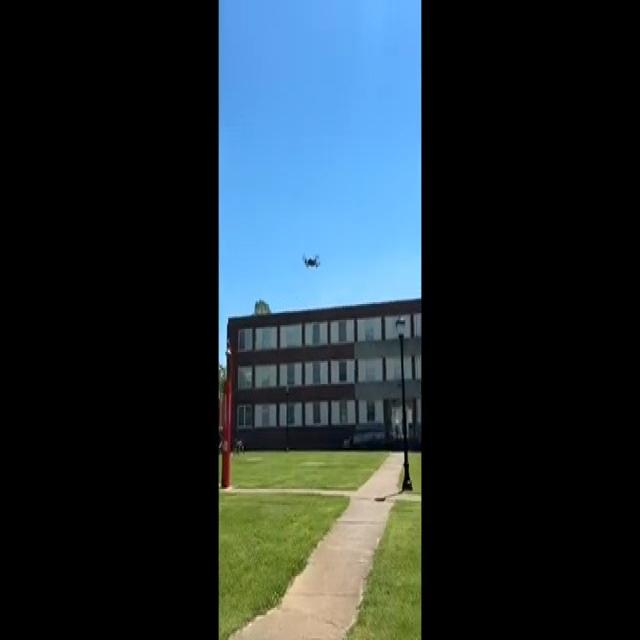drone: (299, 243, 324, 274)
